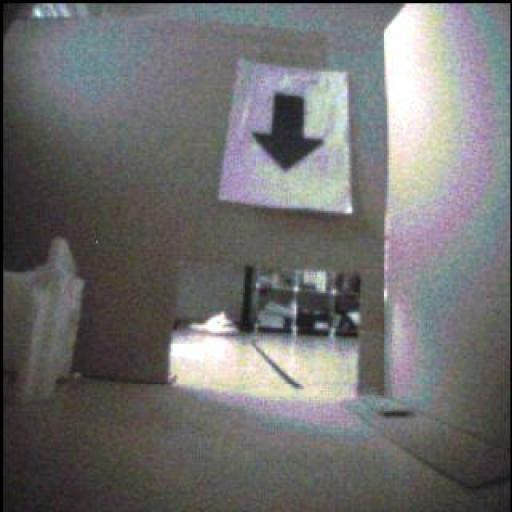arrow: (254, 94, 324, 171)
